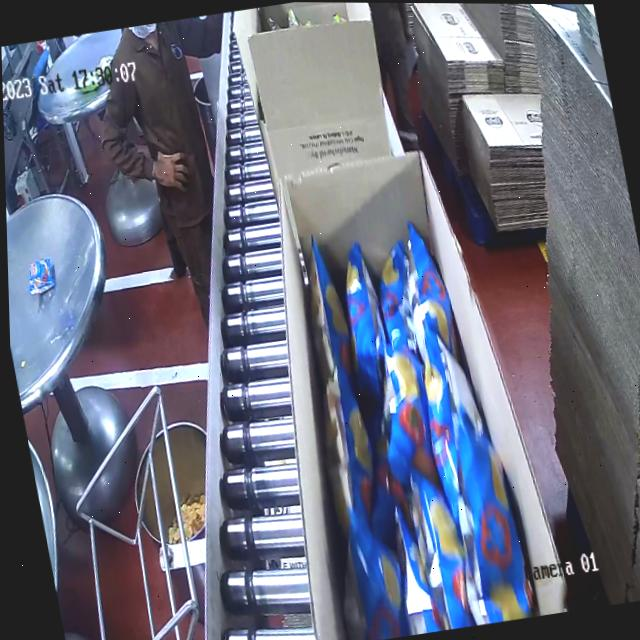PAPRIKA: (289, 211, 550, 640)
